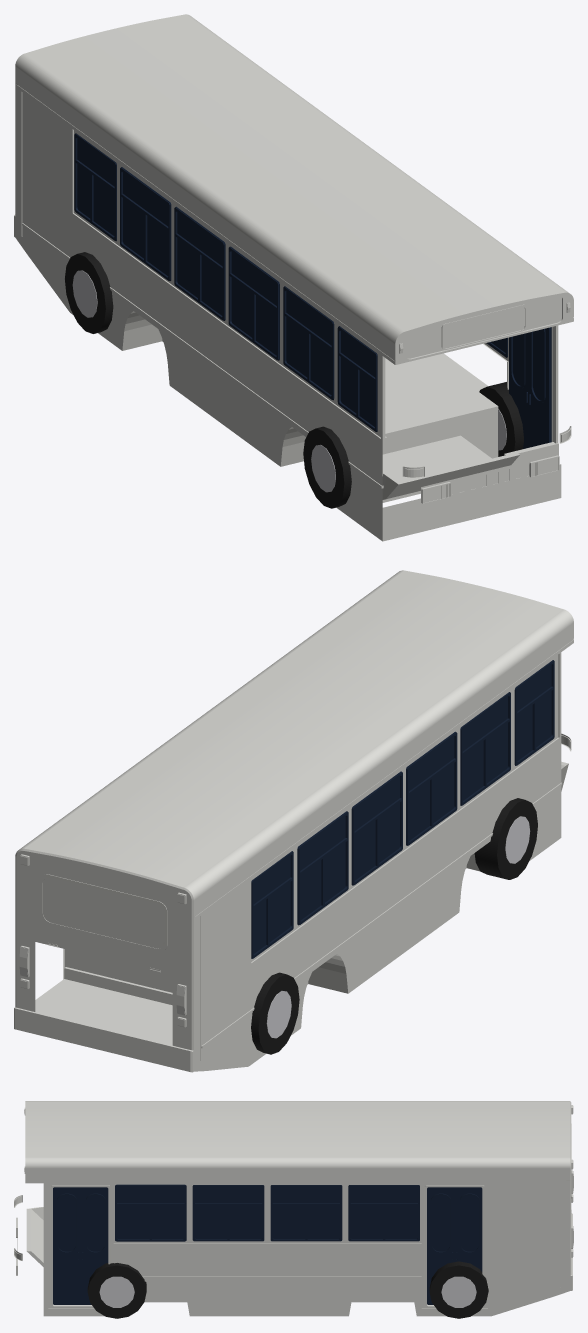
The model's file is bus.glb.
The picture shows the model from 3 angles, top to bottom: view 1: azimuth 30°, elevation 25°; view 2: azimuth 150°, elevation 25°; view 3: azimuth 270°, elevation 25°; orthographic projection. The views are drawn at different scales.
Visible parts, largest first — view 1: Body_Bus, Window_3R, Window_5R, Window_4R, Window_2R, Window_6R, Window_1R, Door_FrontL, object 16, object 20, Door_FrontR, object 18 (+2 smaller); view 2: Body_Bus, Window_5R, Window_4R, Window_3R, Window_2R, Window_6R, Window_1R, object 16, object 20, object 17, object 21; view 3: Body_Bus, Window_1L, Window_3L, Window_2L, Window_4L, Door_FrontL, Door_FrontR, Door_BehindL, Door_BehindR, object 22, object 18, object 23 (+1 smaller).
Boxes of the visible parts, bbox=[...] form: Body_Bus: bbox=[14, 14, 573, 541]; Window_3R: bbox=[228, 246, 279, 360]; Window_5R: bbox=[120, 167, 171, 280]; Window_4R: bbox=[174, 206, 225, 320]; Window_2R: bbox=[283, 286, 334, 400]; Window_6R: bbox=[74, 133, 116, 241]; Window_1R: bbox=[337, 326, 377, 431]; Door_FrontL: bbox=[529, 327, 551, 447]; object 16: bbox=[303, 426, 351, 508]; object 20: bbox=[65, 252, 113, 333]; Door_FrontR: bbox=[509, 332, 528, 448]; object 18: bbox=[479, 382, 523, 456]; Body_Bus: bbox=[14, 570, 573, 1072]; Window_5R: bbox=[297, 811, 348, 925]; Window_4R: bbox=[351, 771, 402, 885]; Window_3R: bbox=[406, 731, 457, 845]; Window_2R: bbox=[460, 692, 510, 805]; Window_6R: bbox=[251, 851, 293, 958]; Window_1R: bbox=[514, 660, 554, 765]; object 16: bbox=[474, 798, 537, 879]; object 20: bbox=[251, 972, 299, 1054]; object 17: bbox=[505, 816, 530, 863]; object 21: bbox=[266, 991, 291, 1038]; Body_Bus: bbox=[14, 1101, 573, 1316]; Window_1L: bbox=[115, 1184, 186, 1241]; Window_3L: bbox=[270, 1185, 342, 1241]; Window_2L: bbox=[192, 1185, 264, 1241]; Window_4L: bbox=[348, 1185, 419, 1241]; Door_FrontL: bbox=[53, 1187, 80, 1304]; Door_FrontR: bbox=[80, 1187, 108, 1304]; Door_BehindL: bbox=[427, 1187, 454, 1304]; Door_BehindR: bbox=[454, 1187, 482, 1271]; object 22: bbox=[429, 1261, 488, 1318]; object 18: bbox=[87, 1263, 146, 1318]; object 23: bbox=[441, 1276, 476, 1307].
Bounding box in the file's own units: 2.73 × 2.95 × 9.5.
